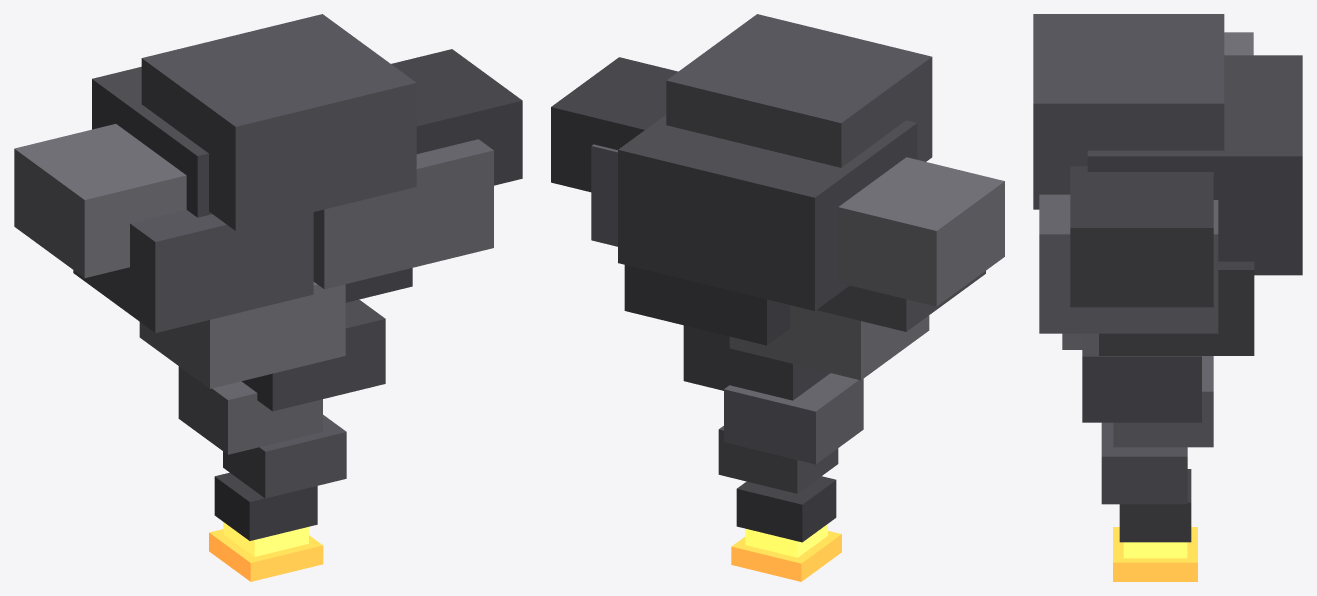
Rendered from dba-smoke.glb.
3 renders of one model, left to right at view 1: azimuth 30°, elevation 25°; view 2: azimuth 150°, elevation 25°; view 3: azimuth 270°, elevation 25°, orthographic. The views are drawn at different scales.
Visible parts, largest first — view 1: box-prop; view 2: box-prop; view 3: box-prop.
Part boxes in pixels (x1=…): box-prop: x1=14, y1=14, x2=522, y2=581; box-prop: x1=551, y1=14, x2=1004, y2=581; box-prop: x1=1033, y1=14, x2=1302, y2=581.
Size of the model in its own units: 18.5 by 21 by 10.15.
